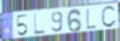5: (16, 14, 29, 37)
6: (66, 8, 83, 34)
9: (51, 11, 64, 34)
C: (100, 5, 117, 29)
L: (33, 12, 47, 36), (86, 8, 98, 30)
